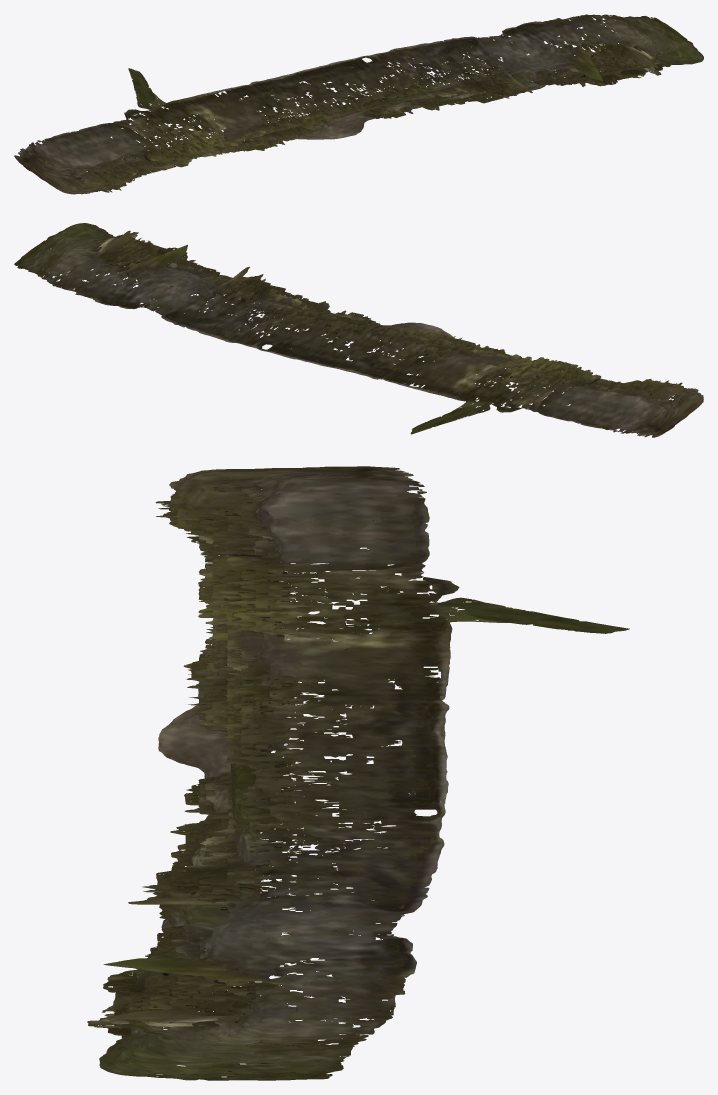
Rendered from muddy_bank_ground_floor.glb.
3 views of the same model, one above another, from view 1: azimuth 30°, elevation 25°; view 2: azimuth 150°, elevation 25°; view 3: azimuth 270°, elevation 25° (orthographic). The views are drawn at different scales.
Visible parts, largest first — view 1: world; view 2: world; view 3: world.
Boxes of the visible parts, x1=… form: world: x1=14, y1=14, x2=703, y2=194; world: x1=14, y1=223, x2=703, y2=437; world: x1=87, y1=466, x2=629, y2=1080.
Size of the model in its own units: 16 by 0.2 by 6.
1 material, 1 textured.
